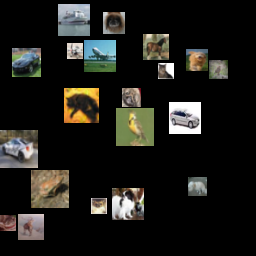airplane: (84, 40, 116, 72), (67, 43, 83, 59)
automobile: (0, 130, 38, 168), (169, 102, 201, 134), (12, 48, 41, 77)
bird: (116, 108, 154, 146), (209, 60, 228, 79)
cat: (64, 88, 99, 123), (0, 215, 16, 231), (158, 63, 174, 79)
deer: (18, 214, 44, 240)
dog: (112, 188, 144, 220), (186, 49, 208, 71), (103, 12, 125, 34), (122, 88, 141, 107), (188, 177, 207, 196), (91, 198, 107, 214)
frog: (31, 170, 69, 208)
ship: (58, 4, 90, 36)
